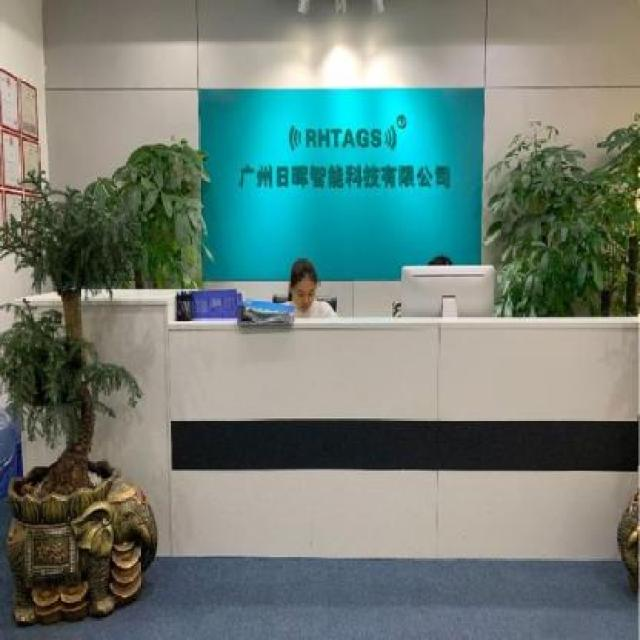frontdesk: (0, 272, 640, 580)
